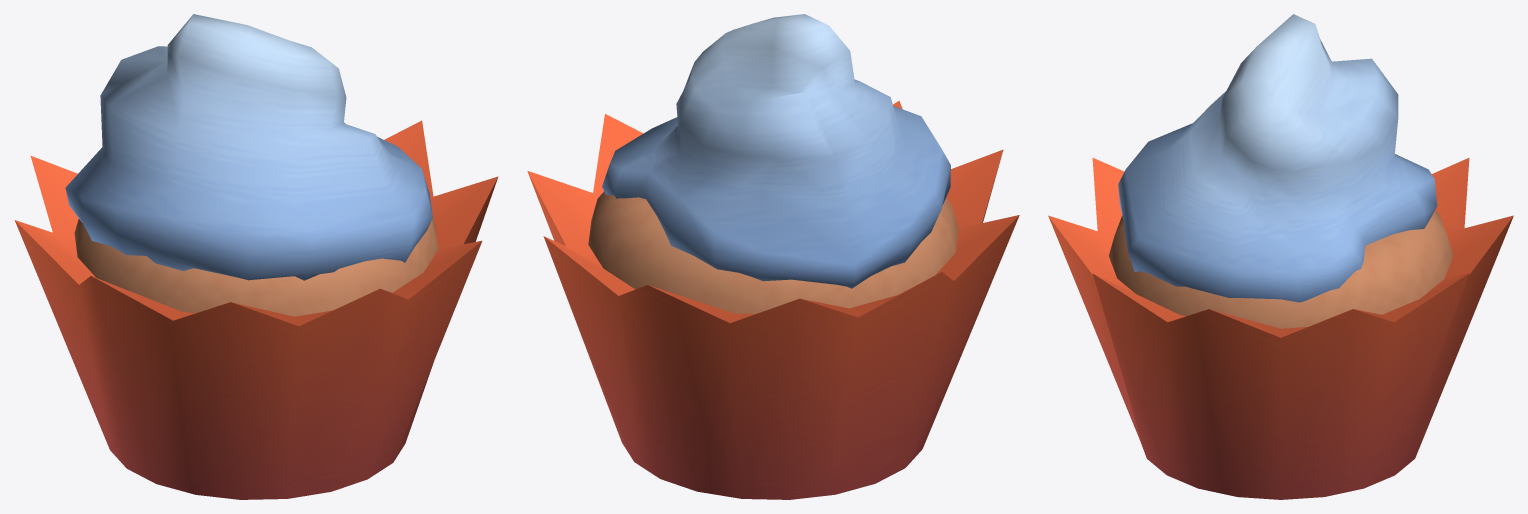
The model's file is SM_CUPCAKE_02.fbx.
3 views of the same model, side by side, from view 1: azimuth 30°, elevation 25°; view 2: azimuth 150°, elevation 25°; view 3: azimuth 270°, elevation 25° (orthographic). The views are drawn at different scales.
Parts seen in each view (by area): view 1: CUPCAKE_02; view 2: CUPCAKE_02; view 3: CUPCAKE_02.
Part boxes in pixels (x1,y1,x2,y2): CUPCAKE_02: [14, 14, 498, 499]; CUPCAKE_02: [527, 14, 1019, 499]; CUPCAKE_02: [1048, 14, 1513, 499].
Bounding box in the file's own units: 152 × 151 × 160.
Materials: 1 (1 with a texture image).
